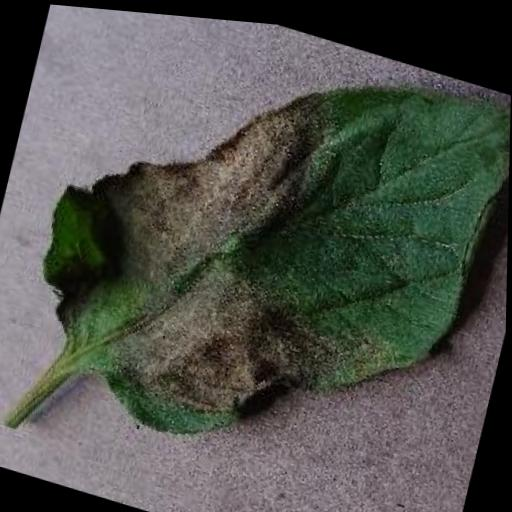Late Blight: (10, 1, 512, 512)
